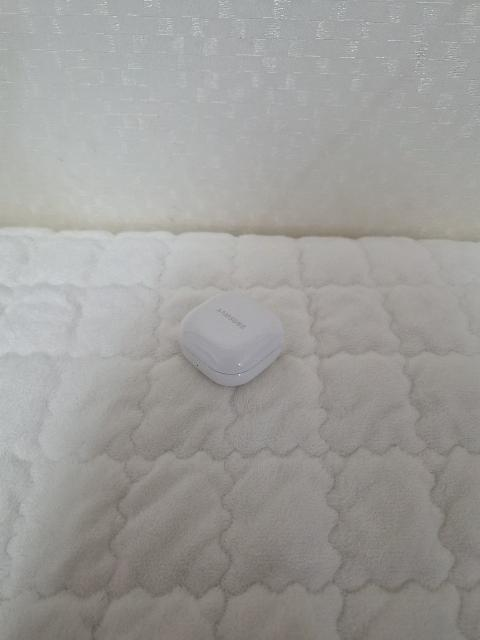earphone_case: (178, 291, 285, 387)
